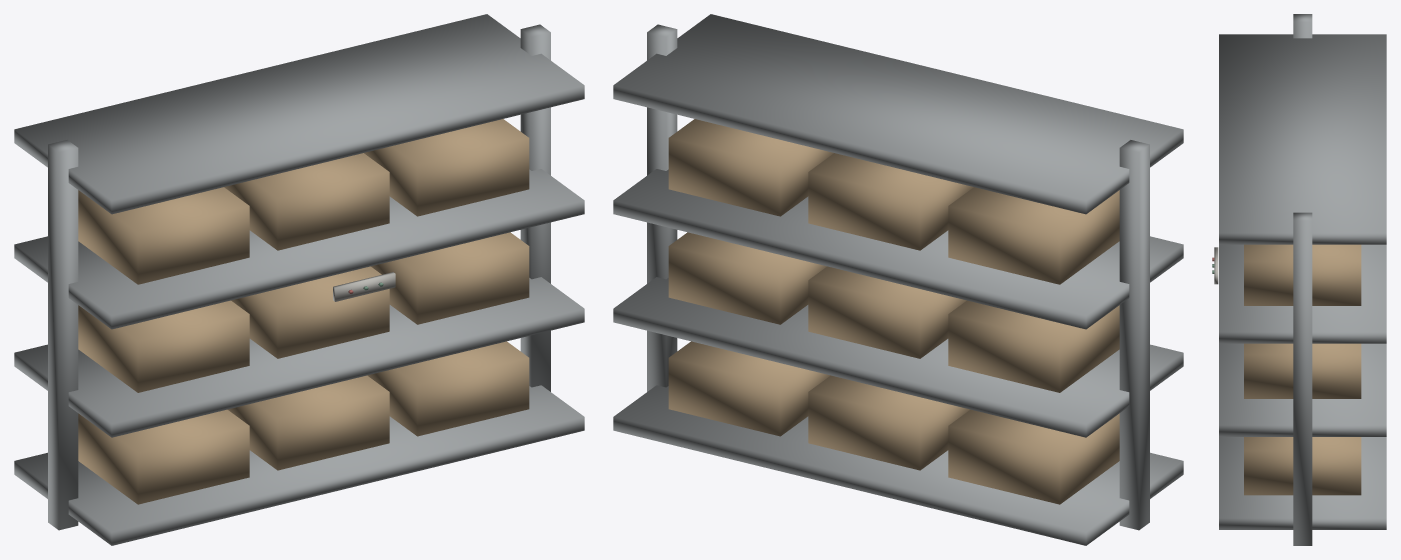
The model's file is print_drying_rack__squat.glb.
3 views of the same model, side by side, from view 1: azimuth 30°, elevation 25°; view 2: azimuth 150°, elevation 25°; view 3: azimuth 270°, elevation 25° (orthographic). The views are drawn at different scales.
Visible parts, largest first — view 1: world; view 2: world; view 3: world.
Part boxes in pixels (x1=…): world: x1=14, y1=14, x2=584, y2=545; world: x1=613, y1=14, x2=1183, y2=545; world: x1=1212, y1=14, x2=1386, y2=545.
Bounding box in the file's own units: 2.52 × 1.85 × 0.8975.
